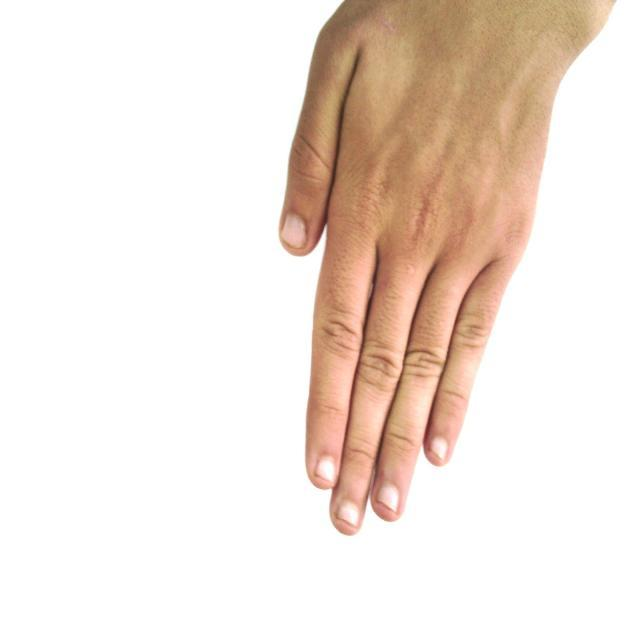Fingernail: (282, 214, 306, 248), (377, 483, 399, 511), (339, 502, 358, 527), (316, 458, 335, 481), (431, 436, 447, 460)
